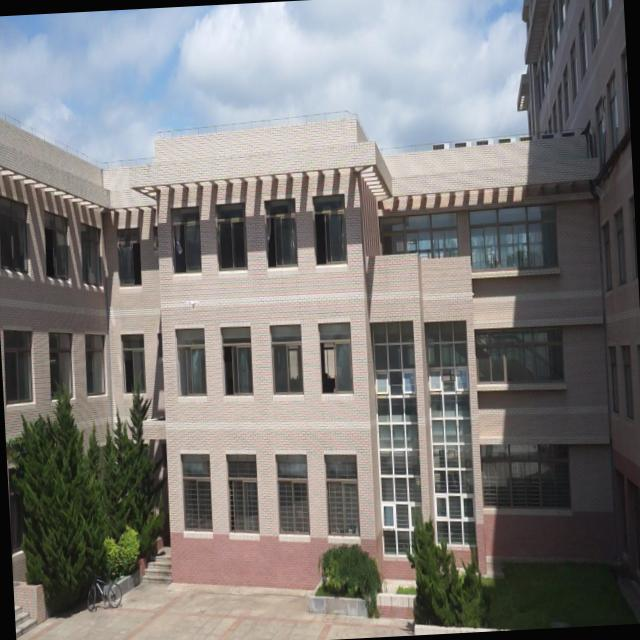drone: (183, 295, 204, 313)
